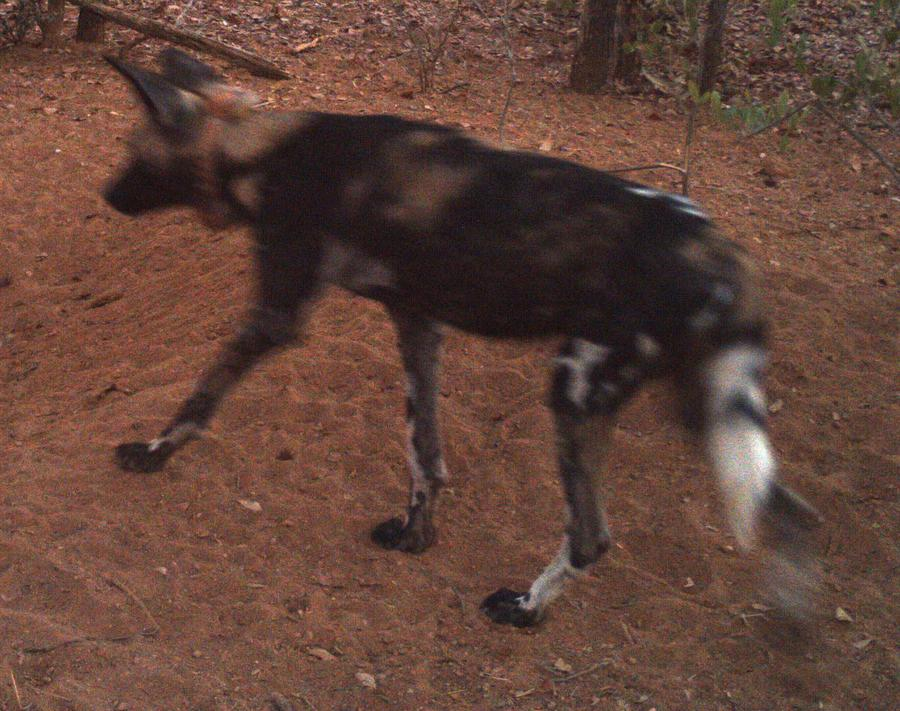wilddog: (112, 85, 744, 472)
